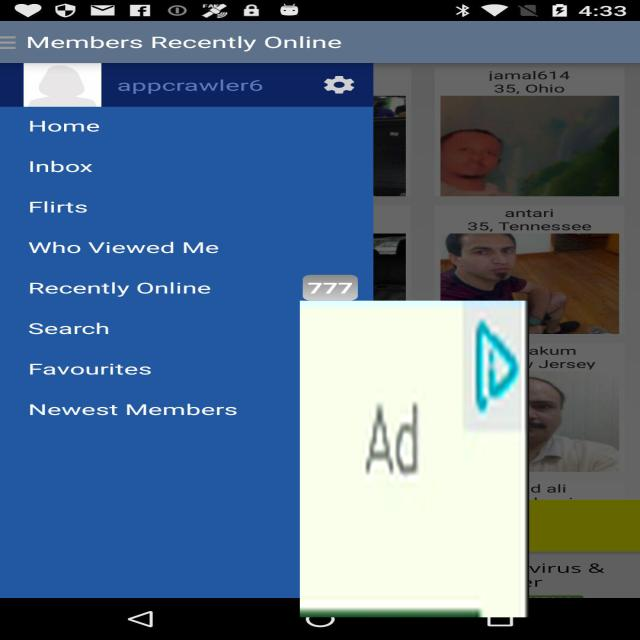sneaking: (300, 301, 529, 617)
